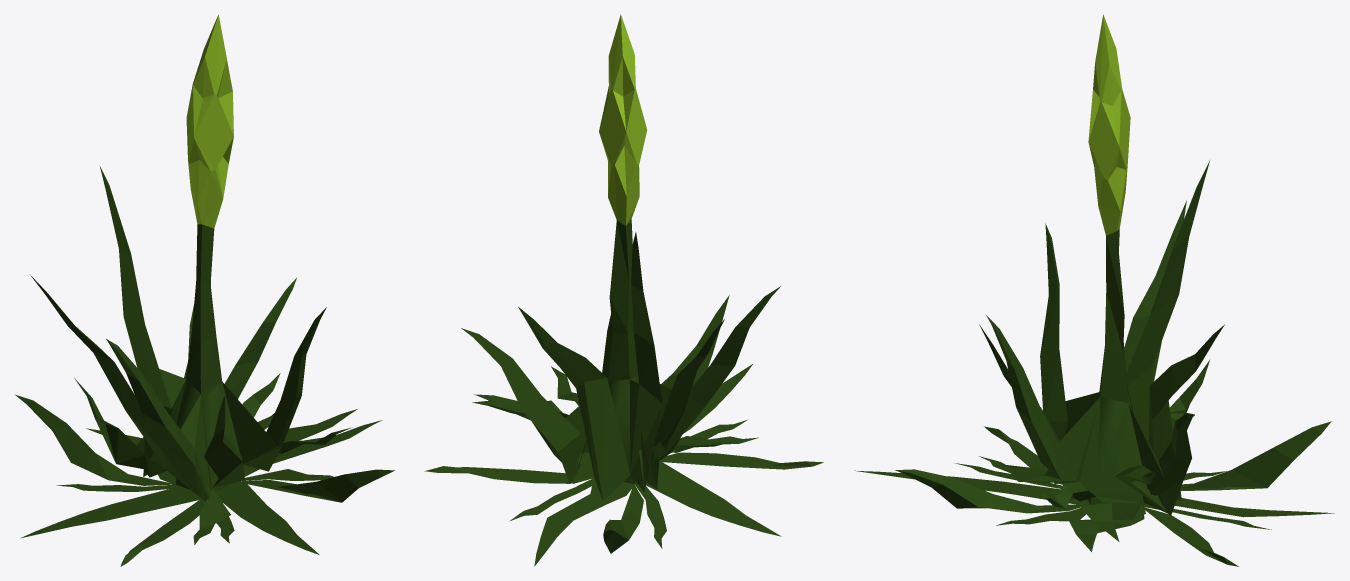
File: SorghumStage1Dead.fbx
3 views of the same model, side by side, from view 1: azimuth 30°, elevation 25°; view 2: azimuth 150°, elevation 25°; view 3: azimuth 270°, elevation 25° (orthographic). The views are drawn at different scales.
Visible parts, largest first — view 1: Rectangle005; view 2: Rectangle005; view 3: Rectangle005.
Part boxes in pixels (left/top/right/bottom): Rectangle005: left=15, top=14, right=394, bottom=566; Rectangle005: left=424, top=14, right=823, bottom=566; Rectangle005: left=854, top=14, right=1334, bottom=566.
Bounding box in the file's own units: 132 × 180 × 155.
